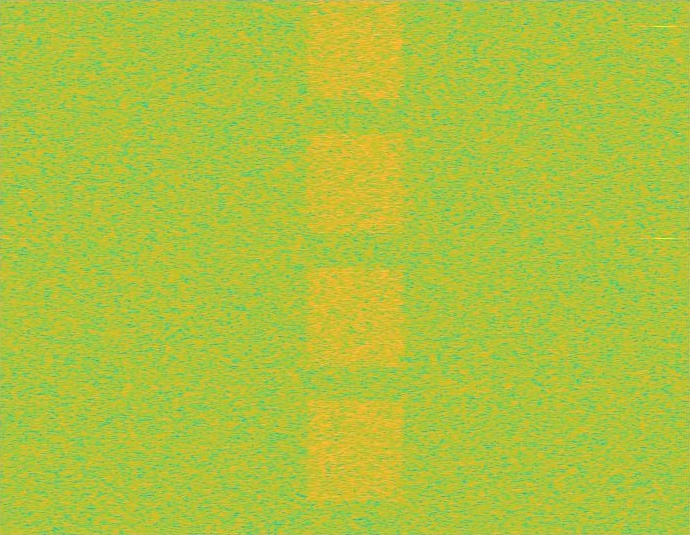5G: (304, 0, 408, 534)
Radar: (657, 0, 671, 534)
